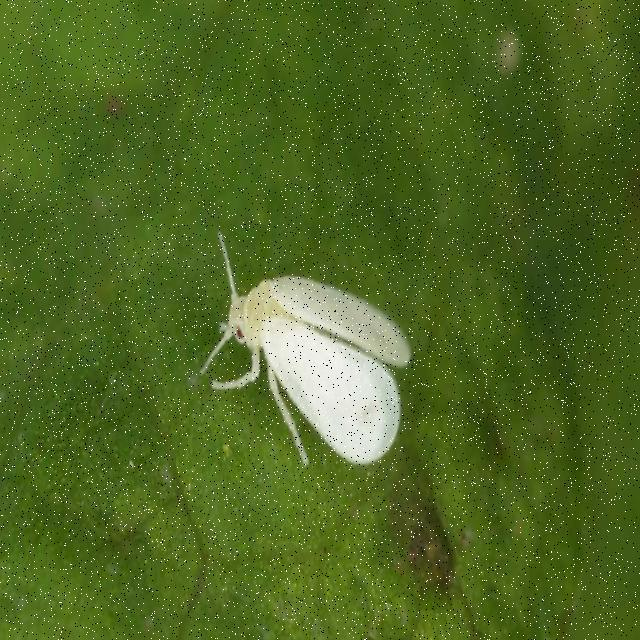Whiteflies: (157, 203, 436, 525)
